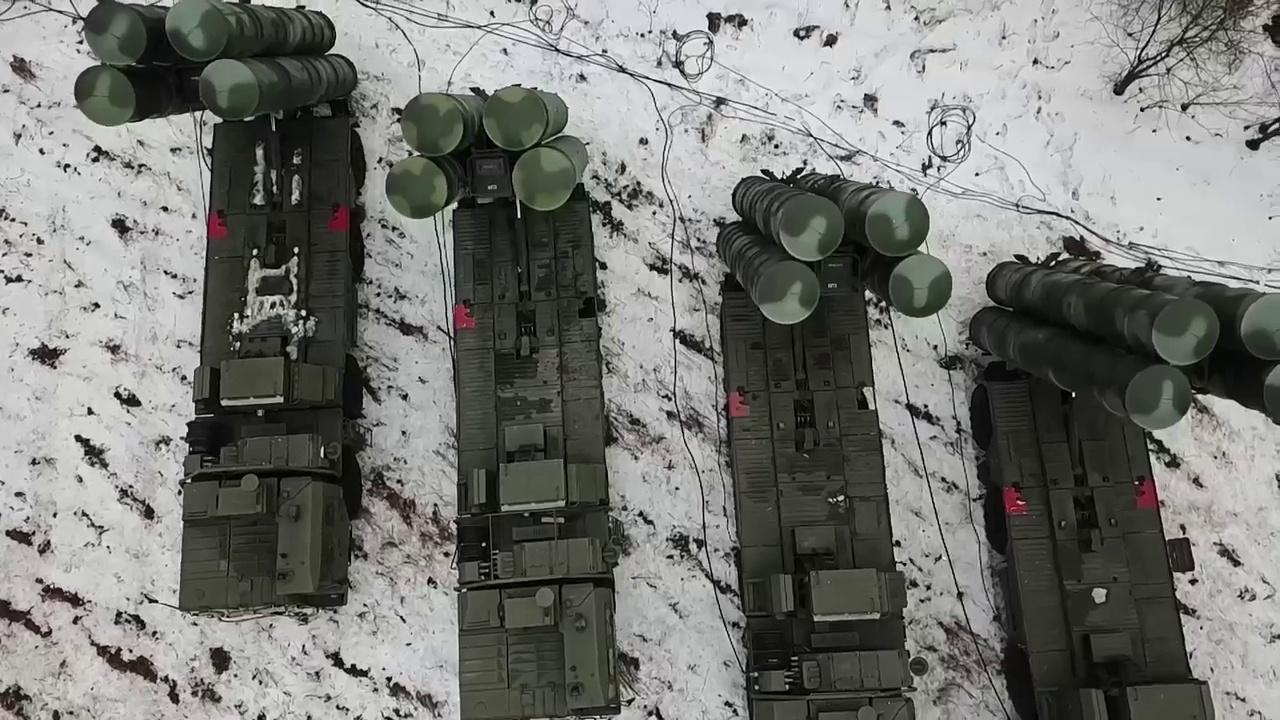rszo: (74, 0, 360, 617), (384, 83, 622, 720), (966, 250, 1280, 720), (718, 174, 954, 720)
